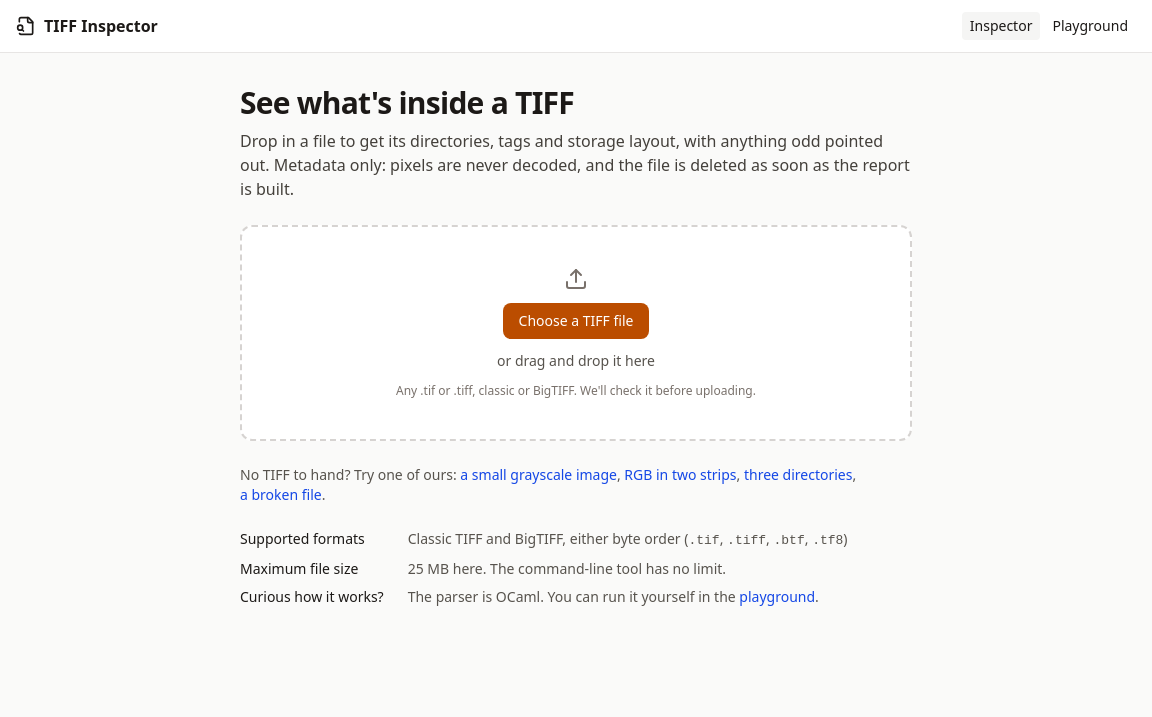
Test: App inspection flow › inspects a bundled sample when one is picked
The image size is (1152, 717).
Click the button "a small grayscale image" at (539, 475), box [460,465,617,485]
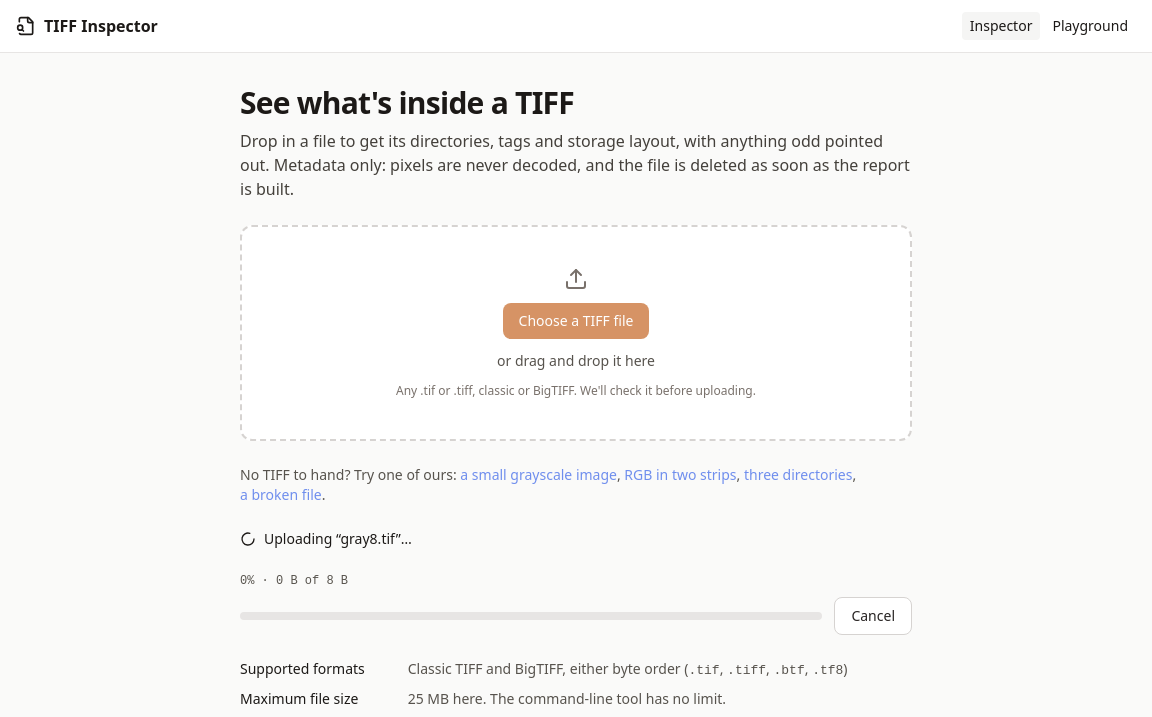
Result: the message shows "Uploading “gray8.tif”" at [264,529,412,548]
